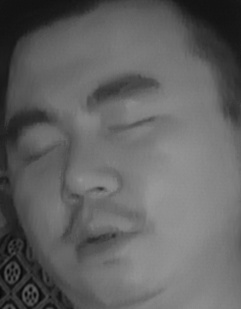blink: (109, 105, 151, 144), (18, 134, 62, 168)
mouth: (58, 206, 144, 271)
